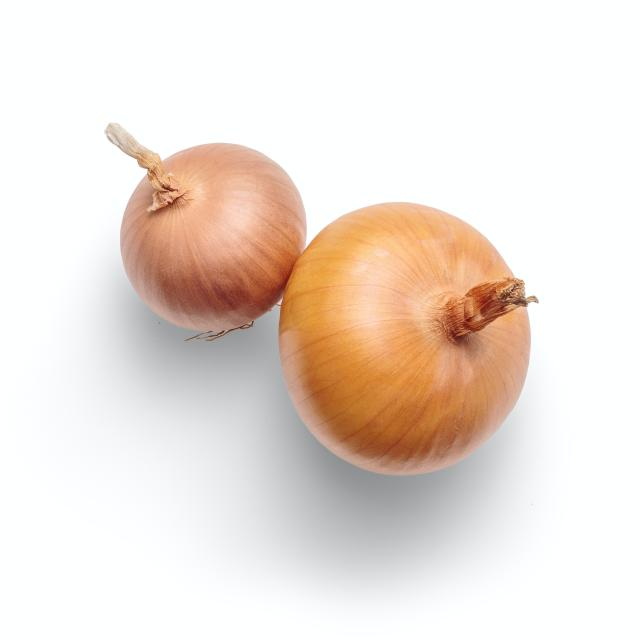onion: (279, 201, 533, 476), (101, 120, 306, 334)
